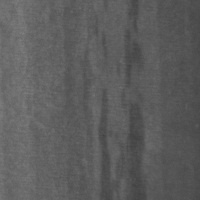inclusion: (100, 1, 147, 200), (115, 1, 145, 104)
